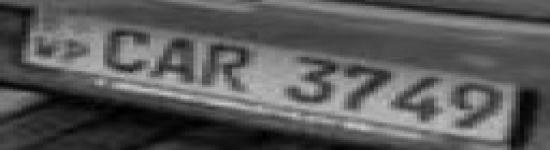3: (284, 53, 341, 107)
4: (393, 74, 447, 126)
7: (341, 61, 396, 111)
9: (449, 80, 504, 130)
A: (148, 35, 200, 83)
C: (101, 26, 152, 76)
P: (60, 38, 96, 66)
R: (200, 41, 259, 94)
W: (32, 34, 62, 61)
